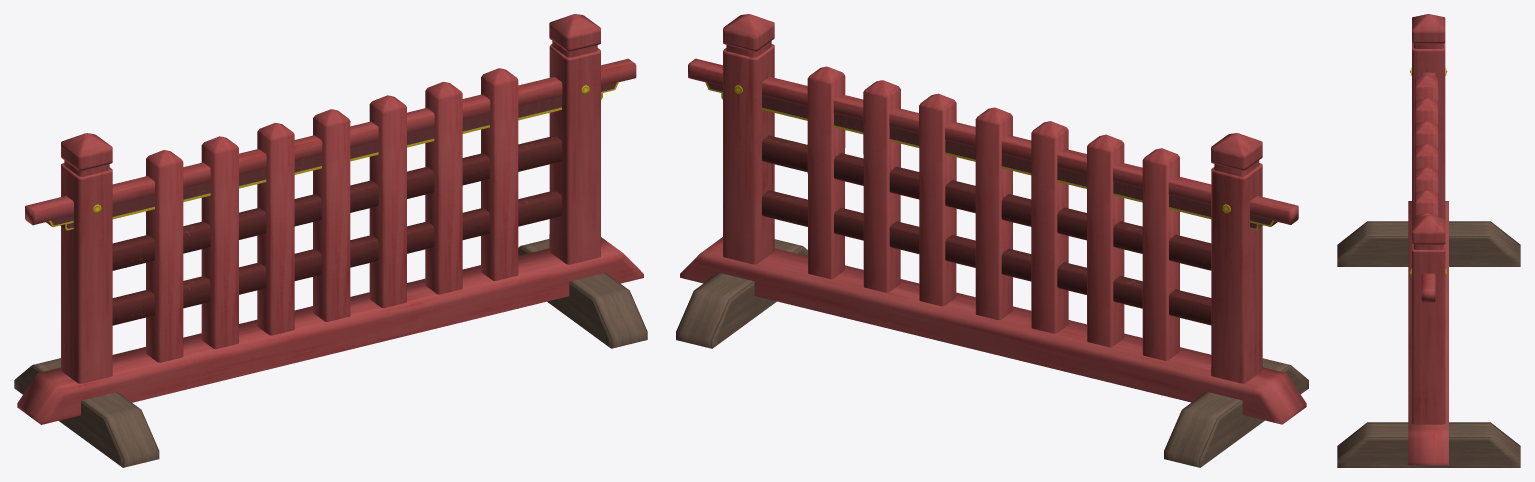
The model's file is SM_ENV_LKNVLD_Fence_Large.FBX.
The picture shows the model from 3 angles, left to right: view 1: azimuth 30°, elevation 25°; view 2: azimuth 150°, elevation 25°; view 3: azimuth 270°, elevation 25°; orthographic projection. The views are drawn at different scales.
Visible parts, largest first — view 1: SM_ENV_LKNVLD_Fence_Large; view 2: SM_ENV_LKNVLD_Fence_Large; view 3: SM_ENV_LKNVLD_Fence_Large.
Boxes of the visible parts, x1,y1,x2,y2 form: SM_ENV_LKNVLD_Fence_Large: [14, 14, 647, 467]; SM_ENV_LKNVLD_Fence_Large: [676, 14, 1308, 467]; SM_ENV_LKNVLD_Fence_Large: [1337, 14, 1520, 467].
Bounding box in the file's own units: 433 × 199 × 135.
